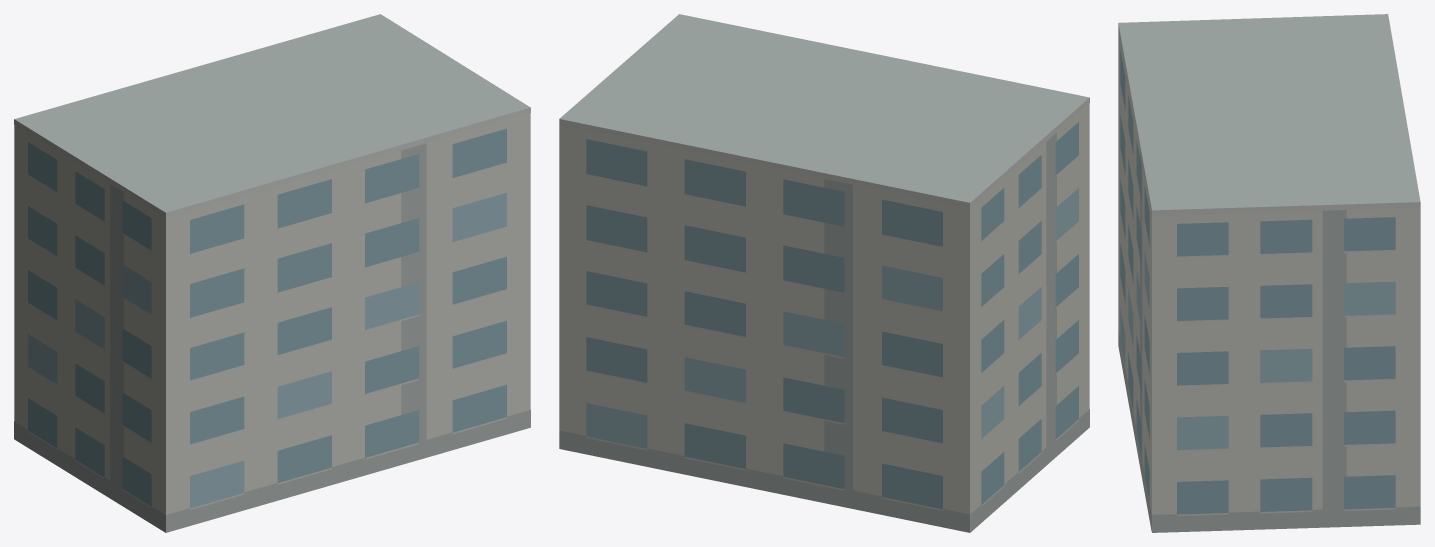
File: survey-upis-33005335.glb
3 renders of one model, left to right at view 1: azimuth 30°, elevation 25°; view 2: azimuth 150°, elevation 25°; view 3: azimuth 270°, elevation 25°, orthographic. The views are drawn at different scales.
Parts seen in each view (by area): view 1: survey-upis-33005335.tmp; view 2: survey-upis-33005335.tmp; view 3: survey-upis-33005335.tmp.
Part boxes in pixels (bbox=[...]): survey-upis-33005335.tmp: bbox=[14, 14, 530, 532]; survey-upis-33005335.tmp: bbox=[559, 14, 1089, 532]; survey-upis-33005335.tmp: bbox=[1118, 14, 1420, 532].
Bounding box in the file's own units: 18.03 × 13.8 × 11.73.
